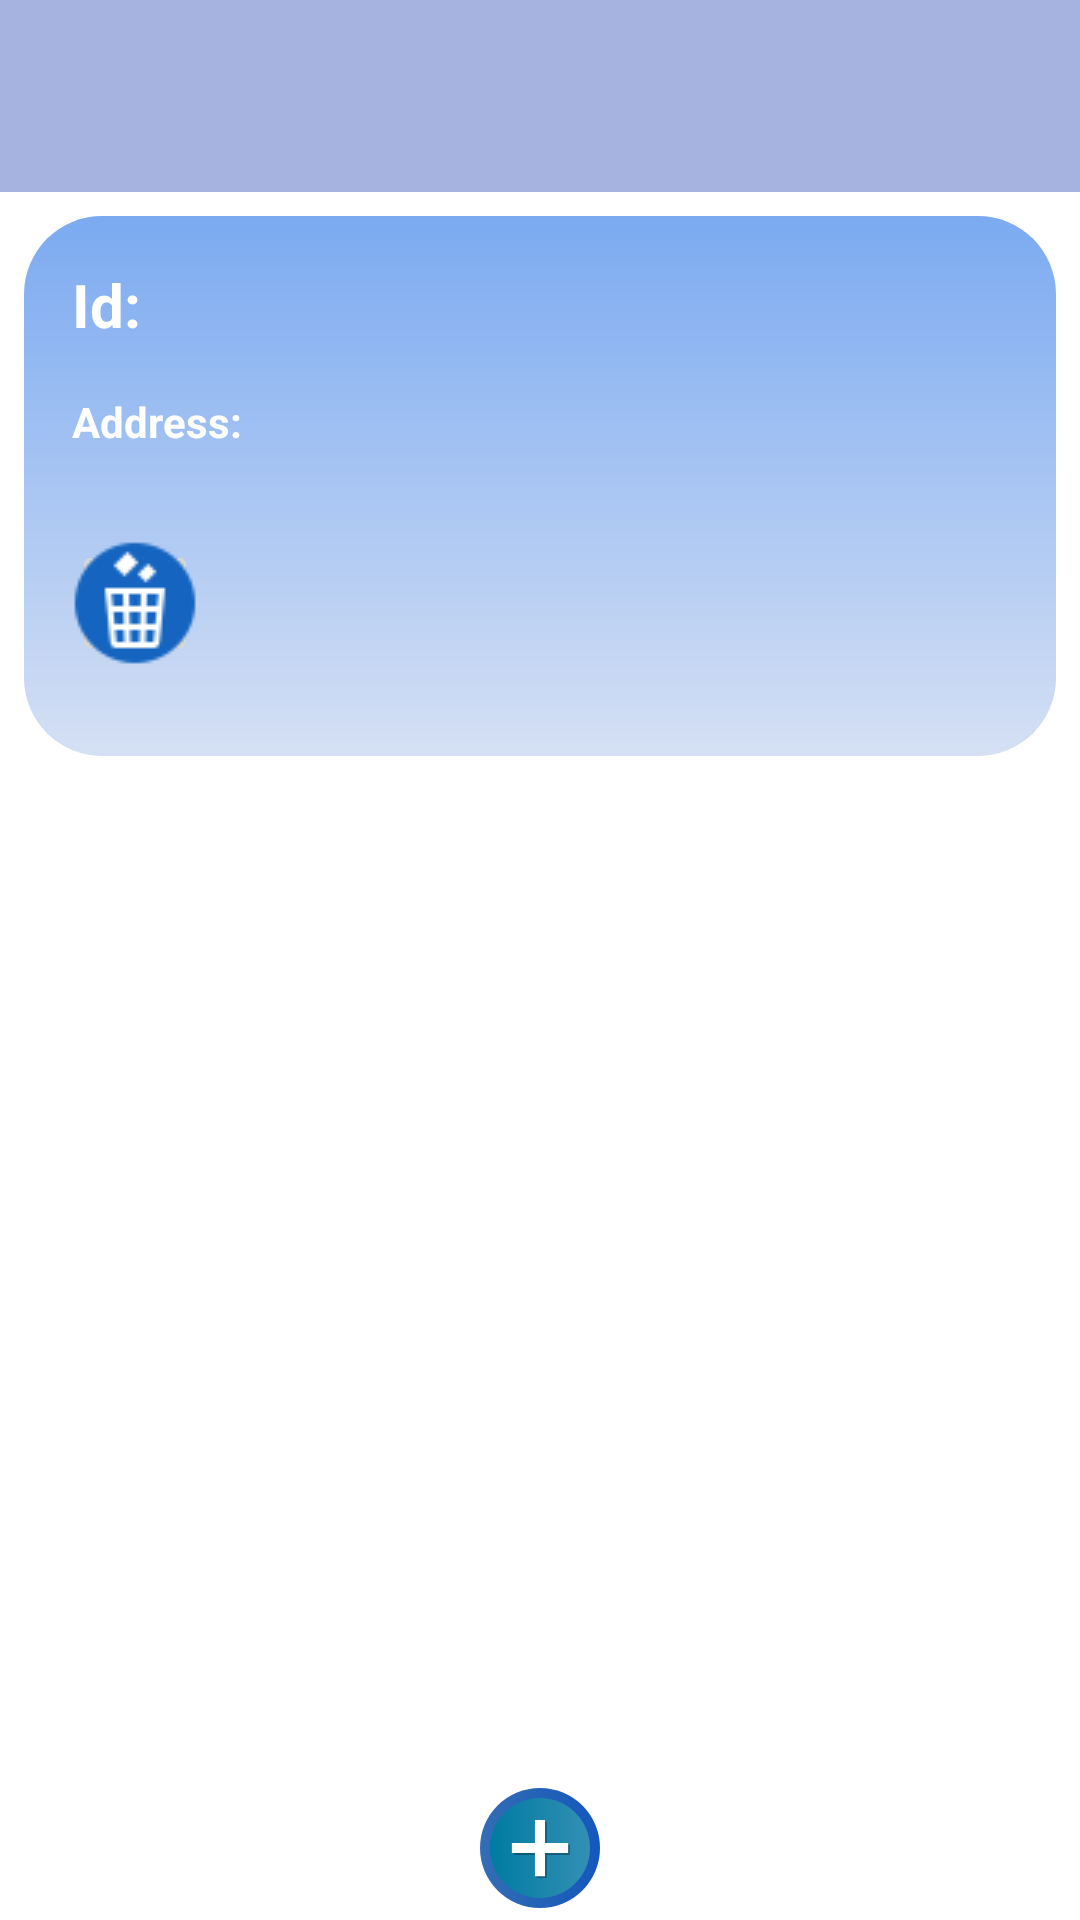

Screen size 1080 × 1920. Icon name, then its box in pixels as region(x1, y1, x2, y2):
add: region(480, 1788, 600, 1908)
delete: region(74, 542, 196, 664)
